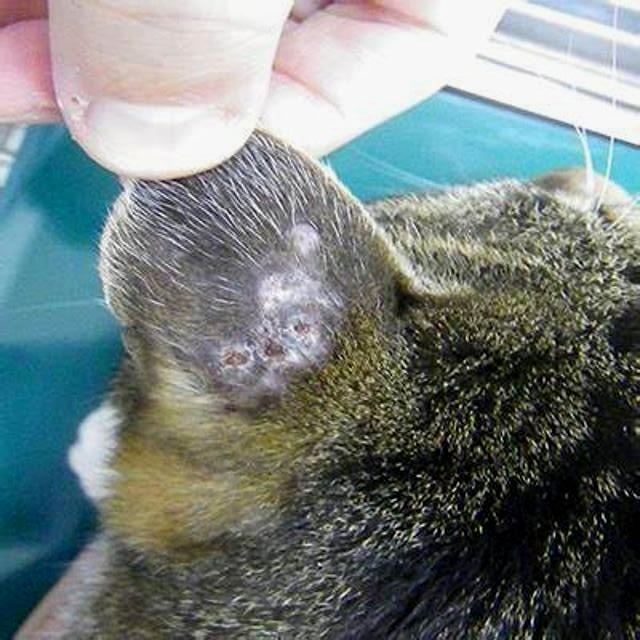ringworm: (218, 225, 343, 394)
